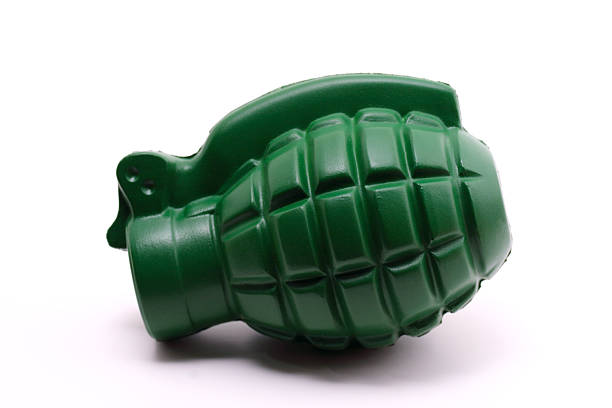e1: (101, 71, 516, 368)
